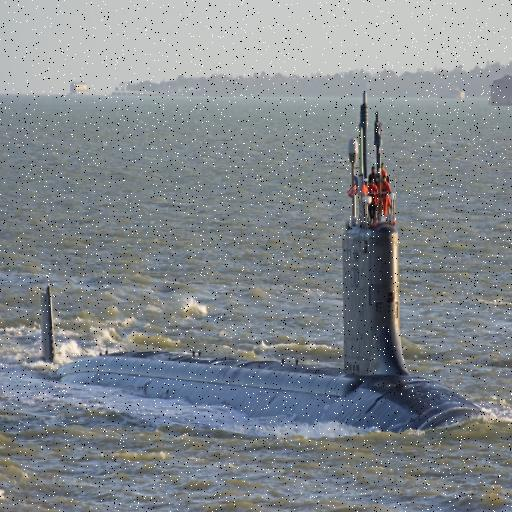submarine: (3, 180, 496, 433)
